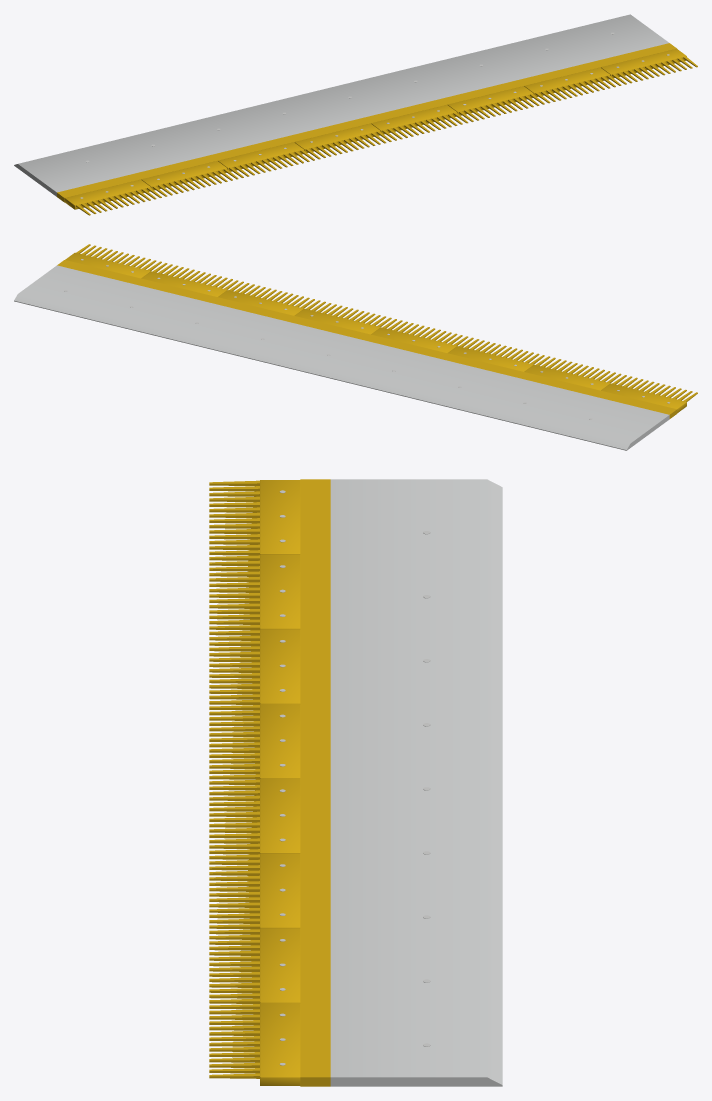
The model's file is Kit_CombPlate.fbx.
The picture shows the model from 3 angles, top to bottom: view 1: azimuth 30°, elevation 25°; view 2: azimuth 150°, elevation 25°; view 3: azimuth 270°, elevation 25°; orthographic projection. The views are drawn at different scales.
Visible parts, largest first — view 1: Kit_CombPlate_LOD0; view 2: Kit_CombPlate_LOD0; view 3: Kit_CombPlate_LOD0.
Part boxes in pixels (<box>): Kit_CombPlate_LOD0: <box>14,14,697,215</box>; Kit_CombPlate_LOD0: <box>14,244,697,450</box>; Kit_CombPlate_LOD0: <box>209,479,502,1086</box>.
Size of what is drawn, in the model's own units: 2.8 by 0.0208 by 0.58.
